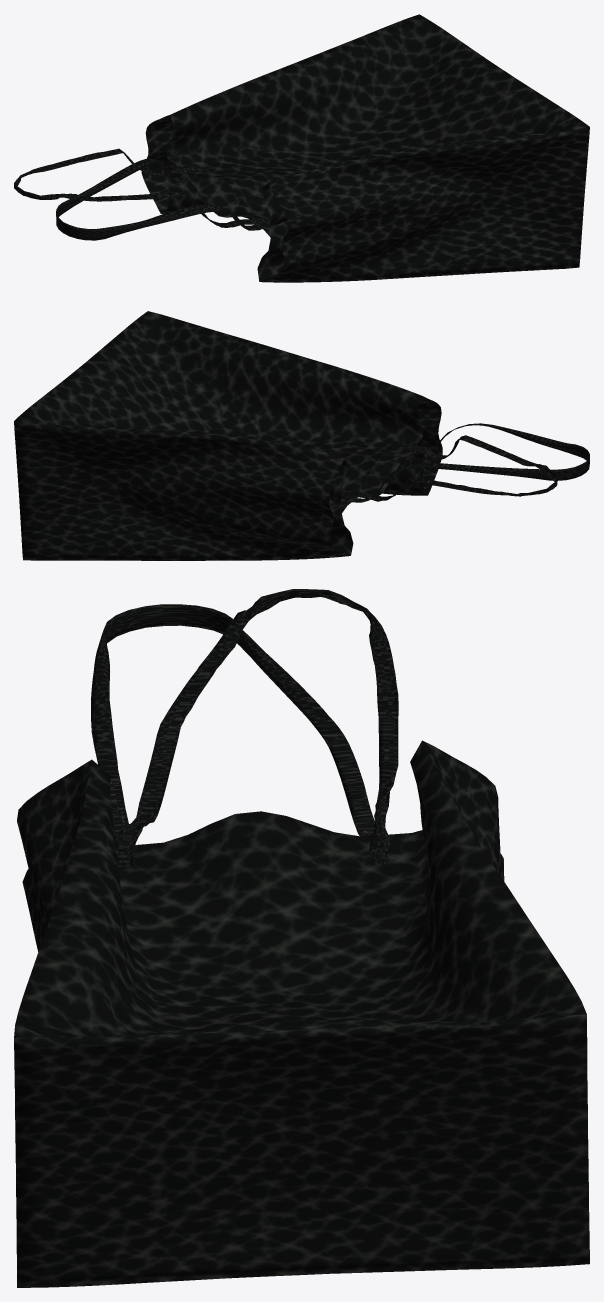
The model's file is bag.fbx.
3 views of the same model, one above another, from view 1: azimuth 30°, elevation 25°; view 2: azimuth 150°, elevation 25°; view 3: azimuth 270°, elevation 25° (orthographic). The views are drawn at different scales.
Parts seen in each view (by area): view 1: 立方体; view 2: 立方体; view 3: 立方体.
Part boxes in pixels (box(x1,y1,x2,y2)): 立方体: box(14, 14, 589, 282); 立方体: box(14, 311, 589, 560); 立方体: box(14, 589, 589, 1287).
Bounding box in the file's own units: 369 × 108 × 200.
